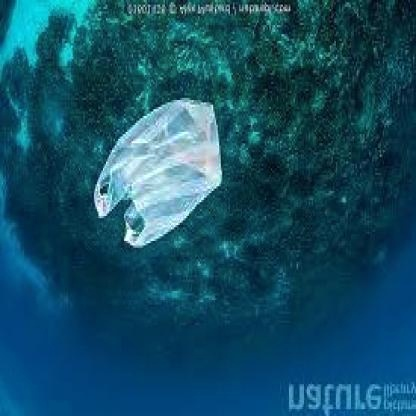pbag: (92, 95, 224, 248)
